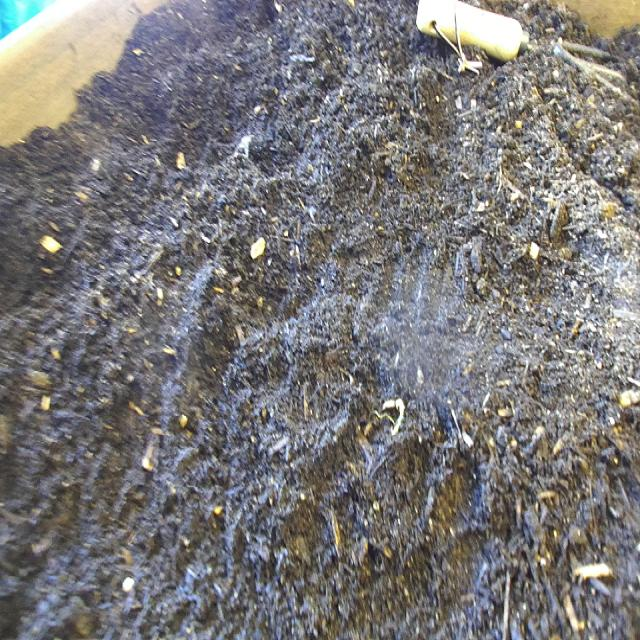Unhealthy: (369, 386, 412, 446)
